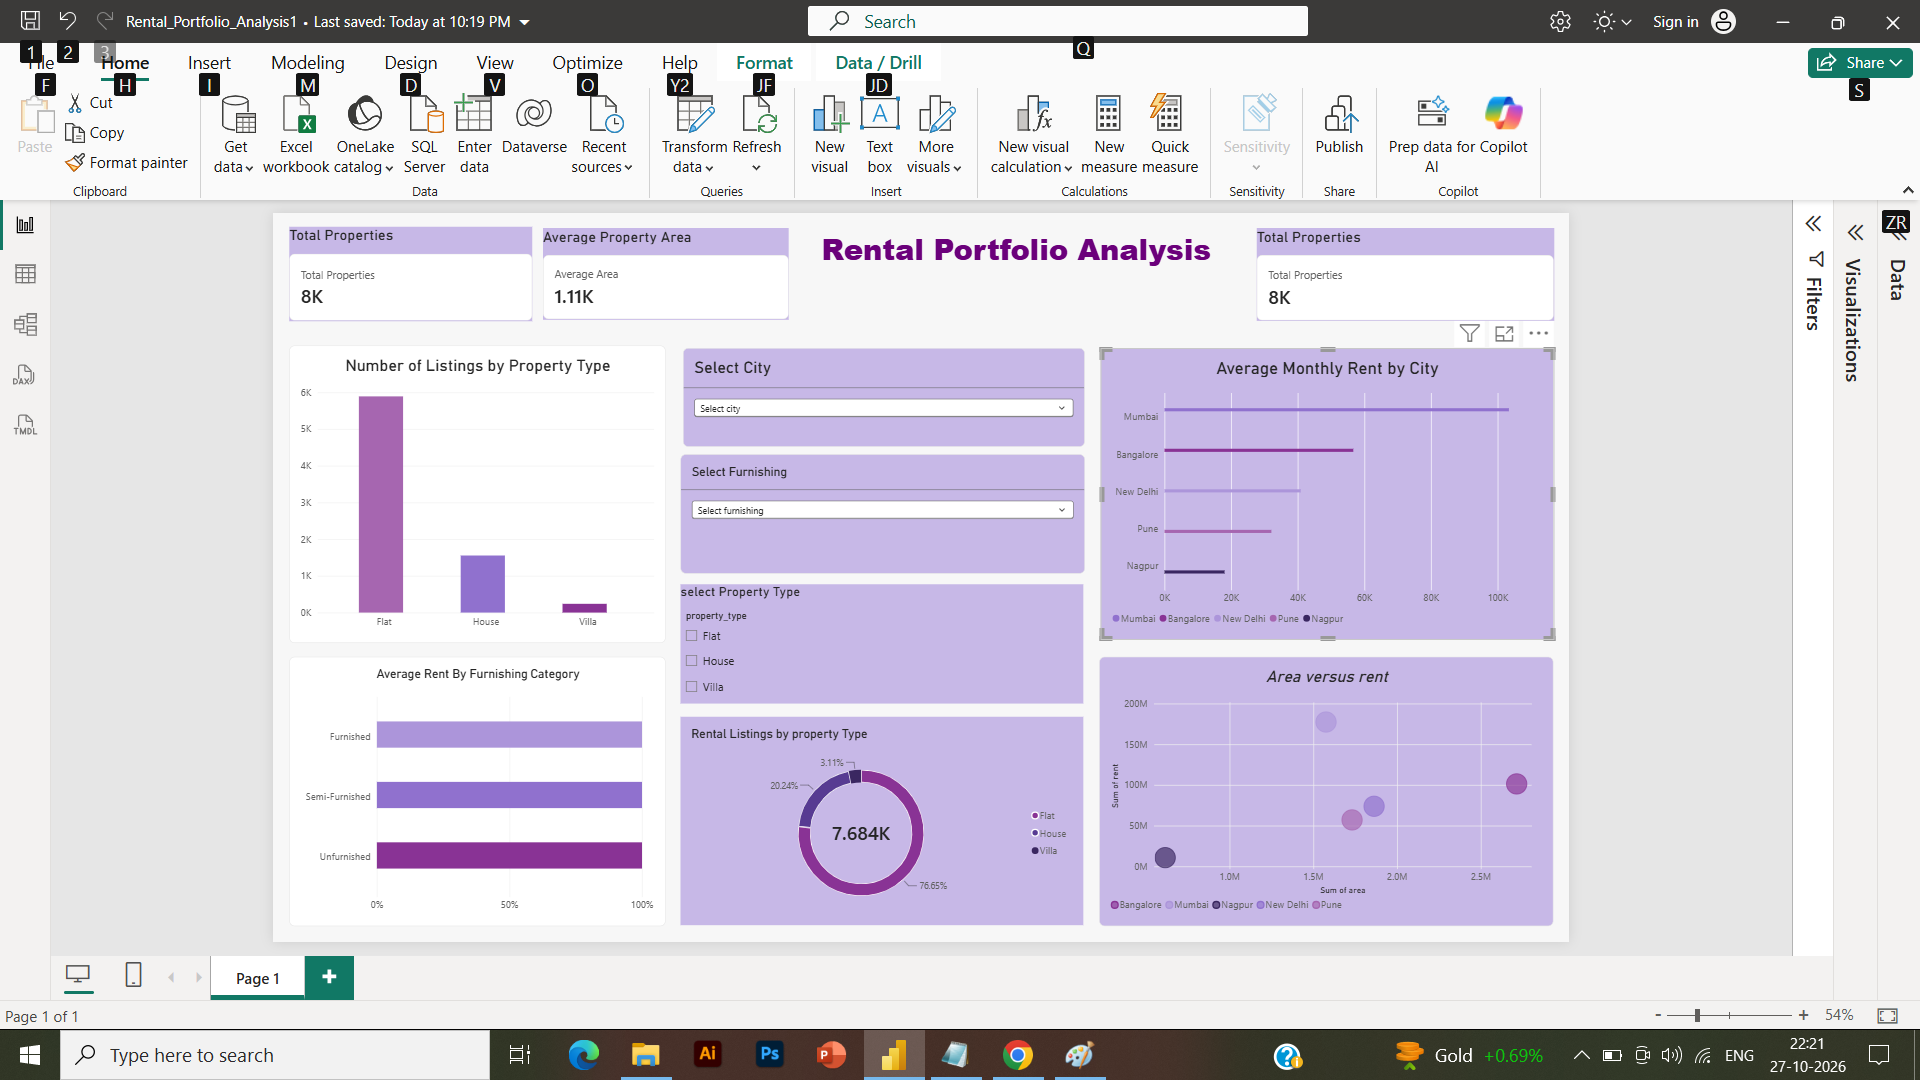

The page's visual inventory and layout, read from the dashboard file:
{"tool":"powerbi","page":{"name":"Page 1","canvas":[1920,1080],"ordinal":0},"visuals":[{"type":"clusteredBarChart","title":"Average Monthly Rent by City","fields":{"Category":["rental_data_final_cleaned.city"],"Series":["rental_data_final_cleaned.city"],"Y":["rental_data_final_cleaned.Average Rent"]},"box":[1226.8,199.7,671,432.2],"z":0},{"type":"clusteredColumnChart","title":"Number of Listings by Property Type","fields":{"Category":["rental_data_final_cleaned.property_type"],"Y":["rental_data_final_cleaned.Total Properties"]},"box":[24.7,195.5,557.8,440.5],"z":1000},{"type":"hundredPercentStackedBarChart","title":"Average Rent By Furnishing Category","fields":{"Category":["rental_data_final_cleaned.furnishing"],"Y":["rental_data_final_cleaned.Average Rent"]},"box":[24.7,656.6,557.8,399.3],"z":2000},{"type":"scatterChart","title":"Area versus rent ","fields":{"Series":["rental_data_final_cleaned.city"],"X":["Sum(rental_data_final_cleaned.area)"],"Y":["Sum(rental_data_final_cleaned.rent)"]},"box":[1224.7,656.6,673.1,399.3],"z":3000},{"type":"listSlicer","title":"Select City","fields":{"Values":["rental_data_final_cleaned.city"]},"box":[607.2,199.7,594.9,146.1],"z":4000},{"type":"slicer","title":"select Property Type","fields":{"Values":["rental_data_final_cleaned.property_type"]},"box":[603.1,549.6,596.9,177],"z":5000},{"type":"listSlicer","title":"Select Furnishing","fields":{"Values":["rental_data_final_cleaned.furnishing"]},"box":[603.1,358.1,599,177],"z":6000},{"type":"donutChart","title":"Rental Listings by property Type","fields":{"Category":["rental_data_final_cleaned.property_type"],"Y":["CountNonNull(rental_data_final_cleaned.property_type)"]},"box":[603.1,747.2,596.9,308.7],"z":7000},{"type":"cardVisual","title":"Average Property Area","fields":{"Data":["rental_data_final_cleaned.Average Area"]},"box":[399.3,22.6,364.3,135.8],"z":8000},{"type":"cardVisual","title":"Total Properties","fields":{"Data":["rental_data_final_cleaned.Total Properties"]},"box":[24.7,20.6,360.2,140],"z":9000},{"type":"cardVisual","title":"Total Properties","fields":{"Data":["rental_data_final_cleaned.Total Properties"]},"box":[1457.3,22.6,440.5,137.9],"z":10000},{"type":"textbox","box":[976,11,226,150],"z":11000},{"type":"textbox","box":[638.1,22.6,924.2,111.1],"z":12000}]}

Visuals, with their boxes on the page's 1920x1080 design canvas (x1, y1, x2, y2). These are canvas units, not pixel positions in the 1920x1080 screenshot, which may show the page scaled, cropped or inside an application window:
"Average Monthly Rent by City" clusteredBarChart: [1227,200,1898,632]
"Number of Listings by Property Type" clusteredColumnChart: [25,196,582,636]
"Average Rent By Furnishing Category" hundredPercentStackedBarChart: [25,657,582,1056]
"Area versus rent " scatterChart: [1225,657,1898,1056]
"Select City" listSlicer: [607,200,1202,346]
"select Property Type" slicer: [603,550,1200,727]
"Select Furnishing" listSlicer: [603,358,1202,535]
"Rental Listings by property Type" donutChart: [603,747,1200,1056]
"Average Property Area" cardVisual: [399,23,764,158]
"Total Properties" cardVisual: [25,21,385,161]
"Total Properties" cardVisual: [1457,23,1898,160]
textbox: [976,11,1202,161]
textbox: [638,23,1562,134]
